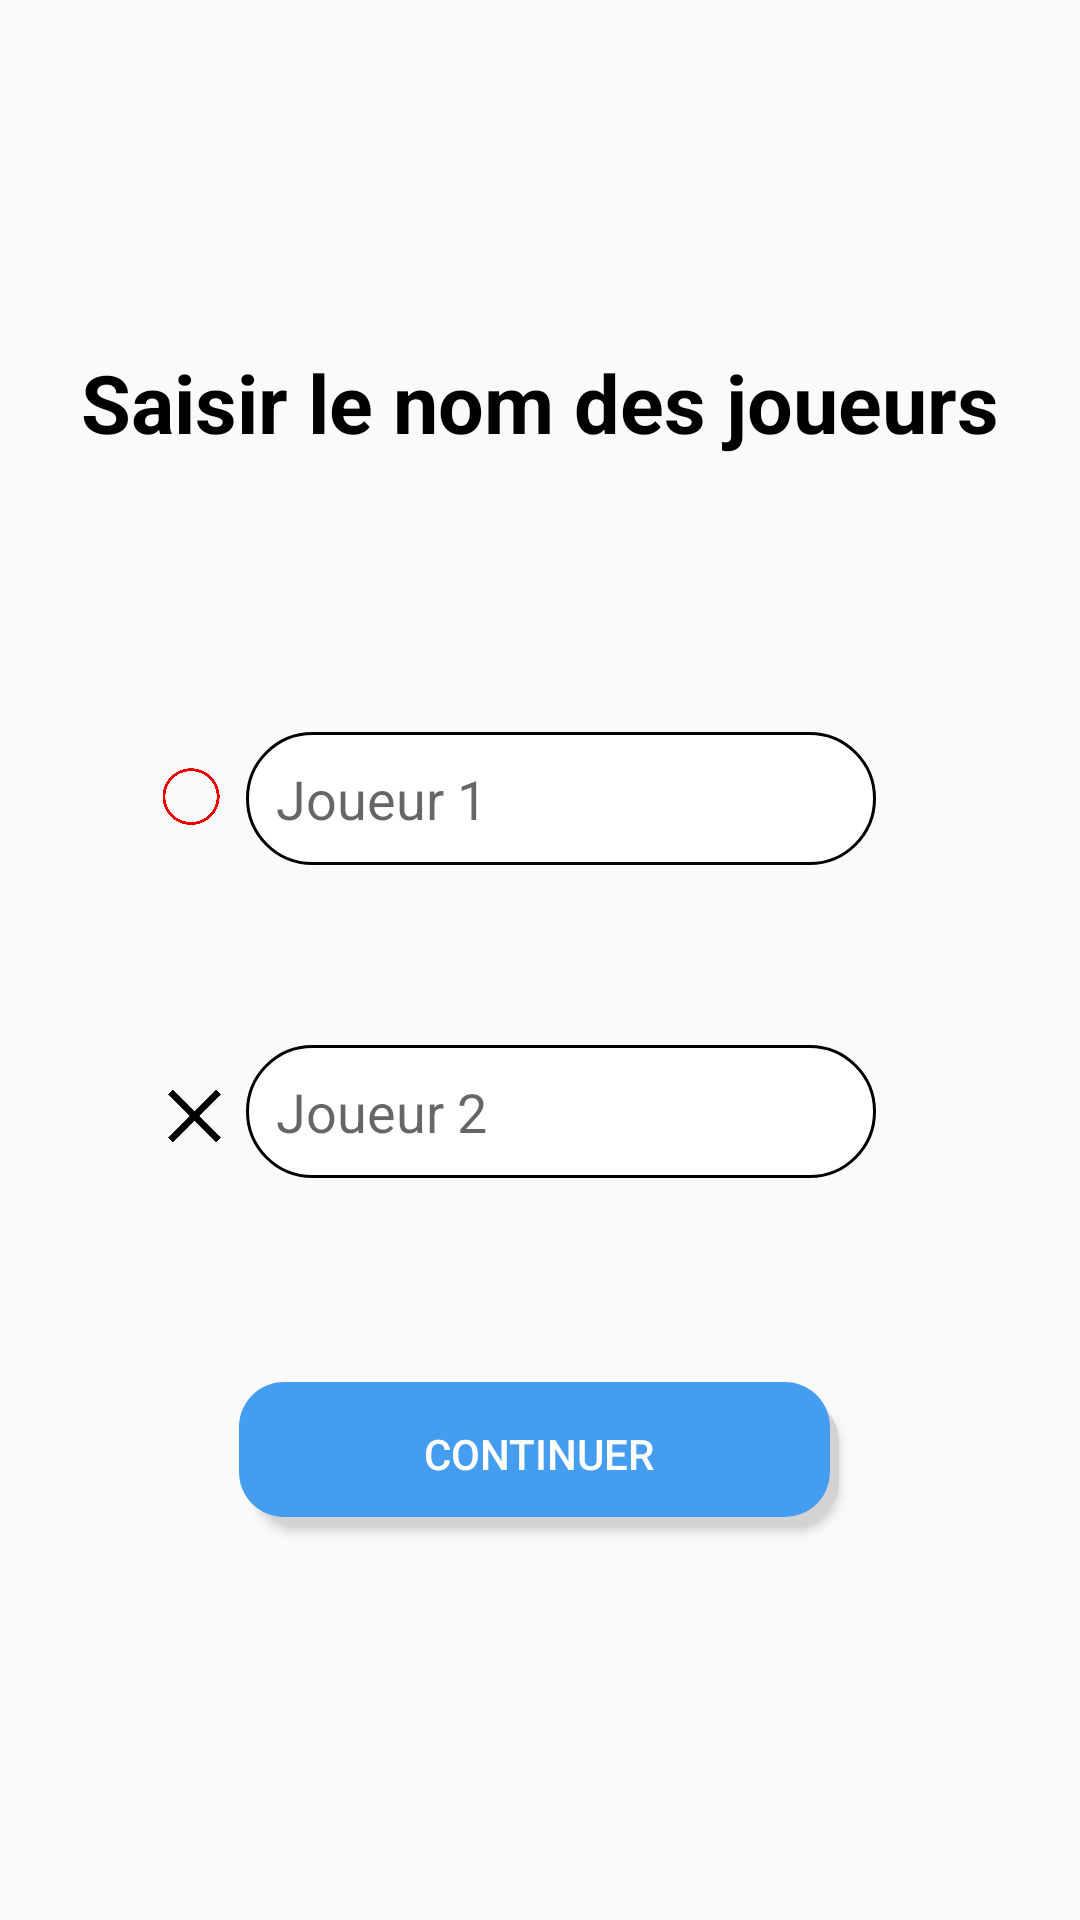

Icon bounding boxes for this 1080 x 1920 phone screenshot, format (x1, y1, x2, y2):
circle: (163, 768, 220, 825)
cross: (168, 1090, 221, 1142)
